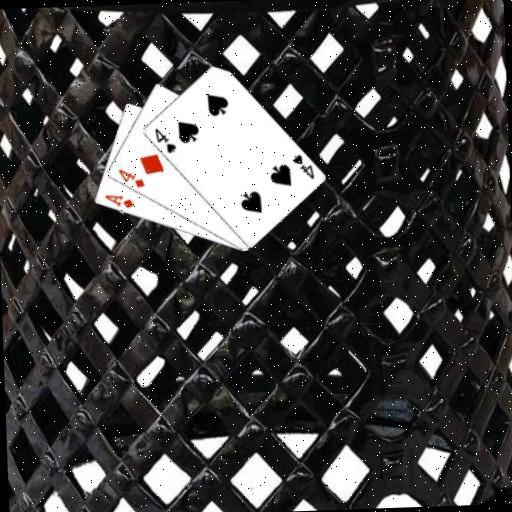4D: (114, 165, 145, 190)
4S: (151, 124, 178, 155), (289, 150, 316, 181)
AD: (101, 190, 135, 210)
